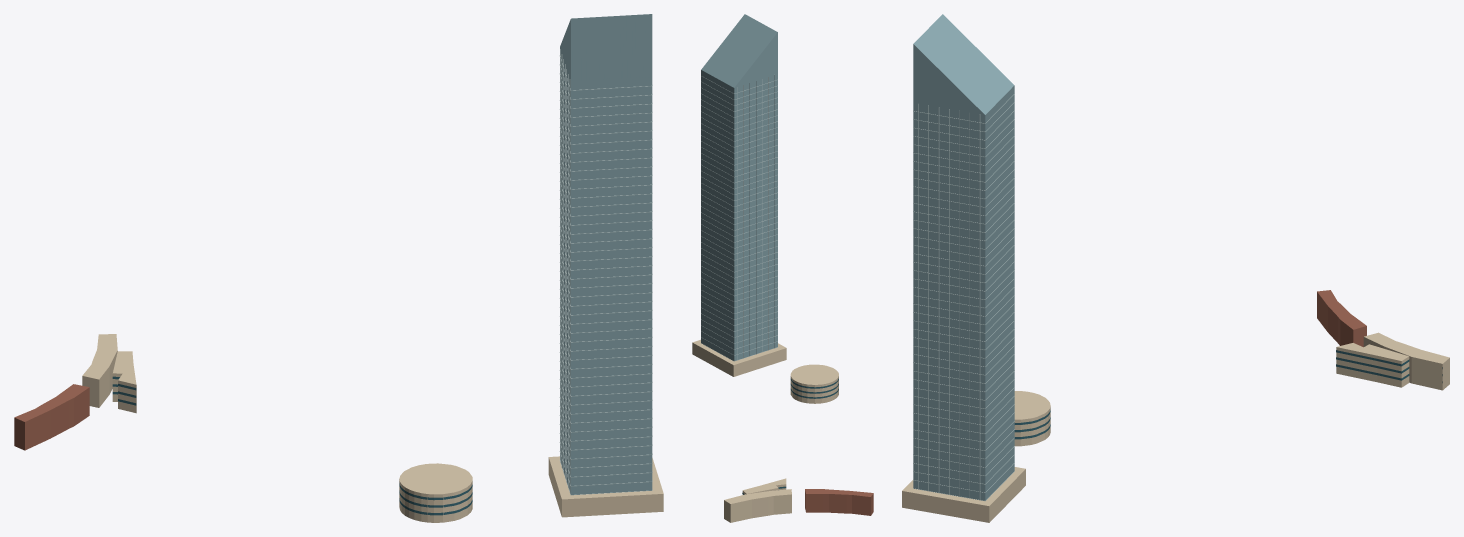
File: city_2_0.glb
3 views of the same model, side by side, from view 1: azimuth 30°, elevation 25°; view 2: azimuth 150°, elevation 25°; view 3: azimuth 270°, elevation 25° (orthographic). The views are drawn at different scales.
Parts seen in each view (by area): view 1: city_2_0; view 2: city_2_0; view 3: city_2_0.
Boxes of the visible parts, <box> form: city_2_0: <box>14,14,663,522</box>; city_2_0: <box>692,14,873,522</box>; city_2_0: <box>902,14,1449,522</box>.
Size of the model in its own units: 249 by 260 by 280.
